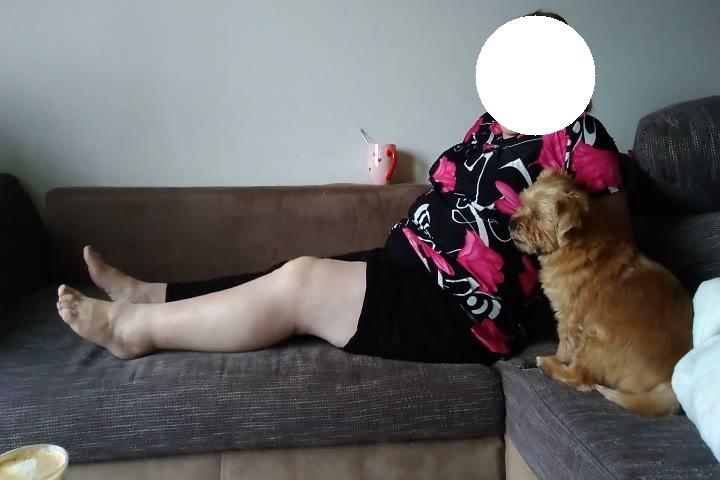lower_body: (52, 233, 506, 370)
